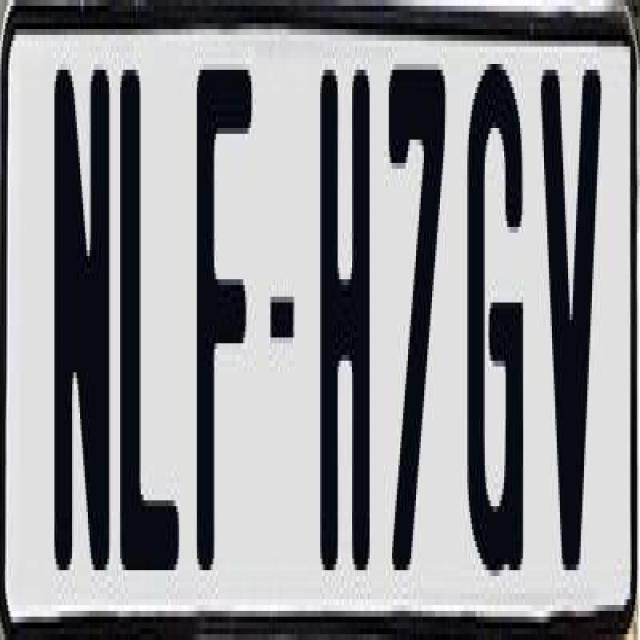7: (386, 64, 444, 594)
F: (192, 70, 250, 588)
G: (468, 58, 526, 576)
H: (318, 63, 378, 564)
L: (120, 58, 187, 594)
N: (54, 70, 110, 600)
V: (540, 64, 606, 576)
